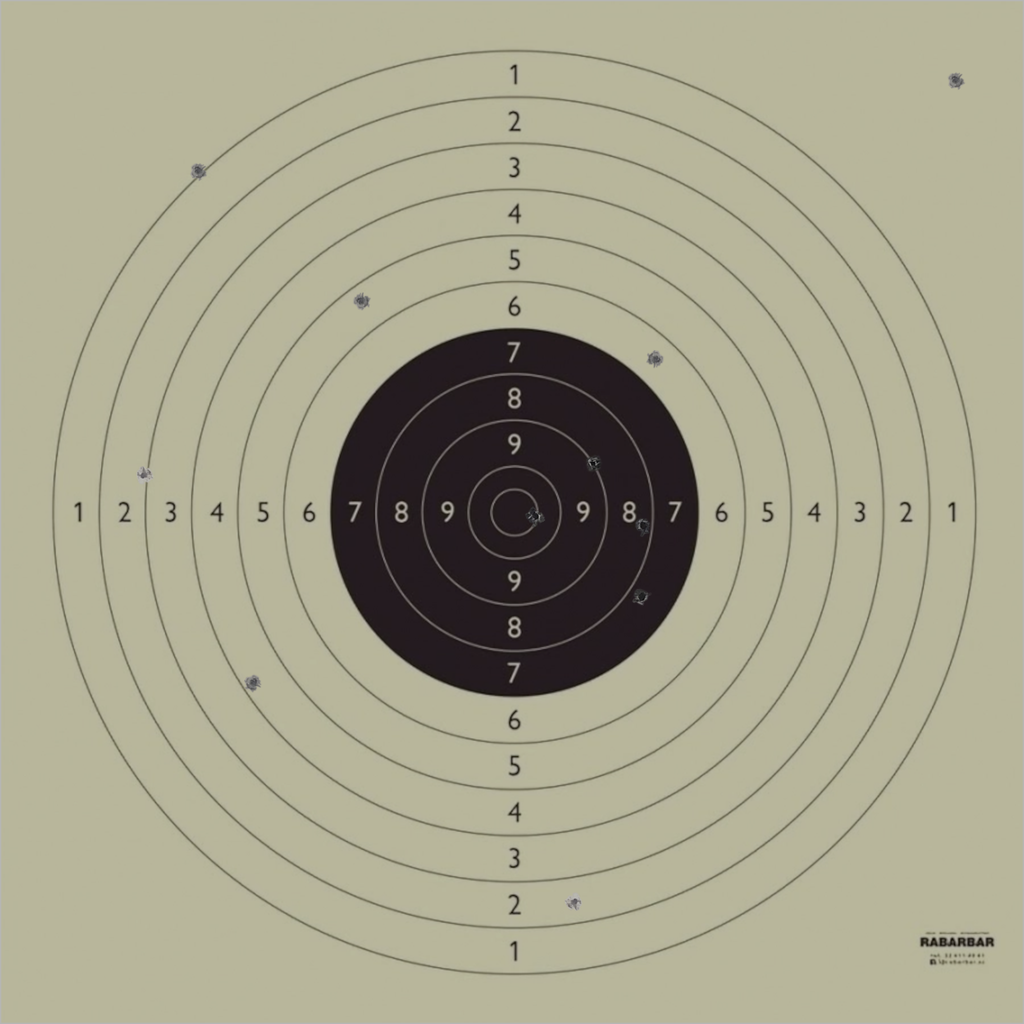0 punktow: (946, 71, 965, 89)
1 punkt: (189, 161, 207, 180)
10 punktow: (526, 507, 544, 525)
2 punkty: (565, 893, 584, 911)
3 punkty: (135, 466, 153, 484)
4 punkty: (244, 673, 263, 692)
5 punktow: (352, 292, 370, 310)
6 punktow: (647, 350, 665, 369)
7 punktow: (632, 588, 651, 606)
8 punktow: (634, 517, 652, 535)
9 punktow: (584, 454, 602, 472)
